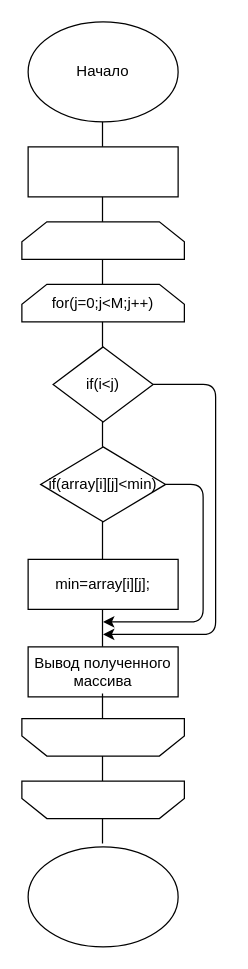
The diagram is 248 pixels wide and 969 high, and some of its shapes have lost their labels. Here are the shapes that lost their labels. From the top down, the centre of each, then its label:
pixel 102 171: N,M; Ввод изначального массива;
pixel 102 240: for(i=0;i<N;i++)
pixel 102 896: Конец
